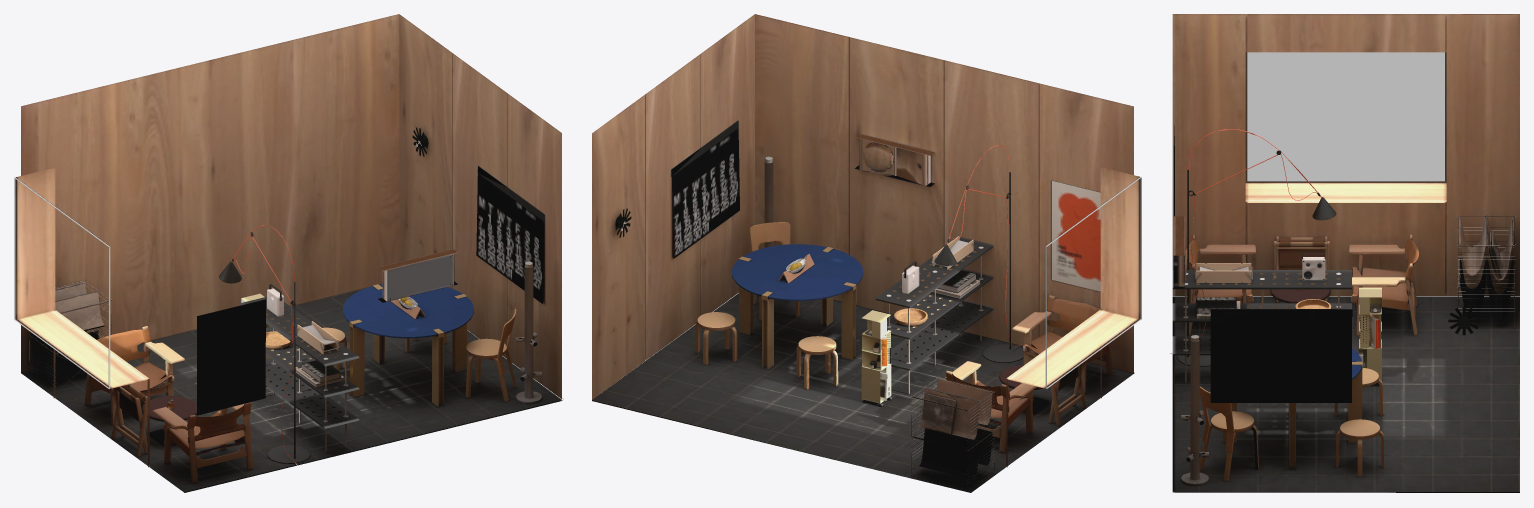
File: compressed_alt7.glb
3 views of the same model, side by side, from view 1: azimuth 30°, elevation 25°; view 2: azimuth 150°, elevation 25°; view 3: azimuth 270°, elevation 25° (orthographic). The views are drawn at different scales.
Visible parts, largest first — view 1: Retopo_9.chair.001_Baked.005; view 2: Retopo_9.chair.001_Baked.005; view 3: Retopo_9.chair.001_Baked.005.
Boxes of the visible parts, left/top/right/bottom form: Retopo_9.chair.001_Baked.005: left=14, top=14, right=563, bottom=492; Retopo_9.chair.001_Baked.005: left=592, top=14, right=1141, bottom=492; Retopo_9.chair.001_Baked.005: left=1170, top=14, right=1519, bottom=492.
Bounding box in the file's own units: 4.46 × 2.7 × 3.02.
Materials: 2 (1 with a texture image).
